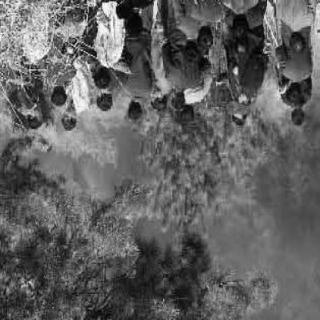Fire: (223, 86, 317, 292), (4, 75, 140, 173)
